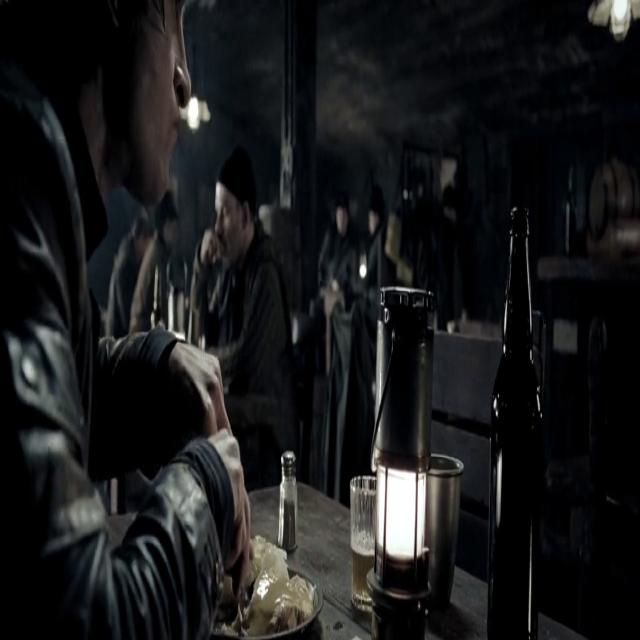Bottle: (491, 206, 573, 640)
People: (94, 0, 193, 640), (221, 150, 268, 428)
